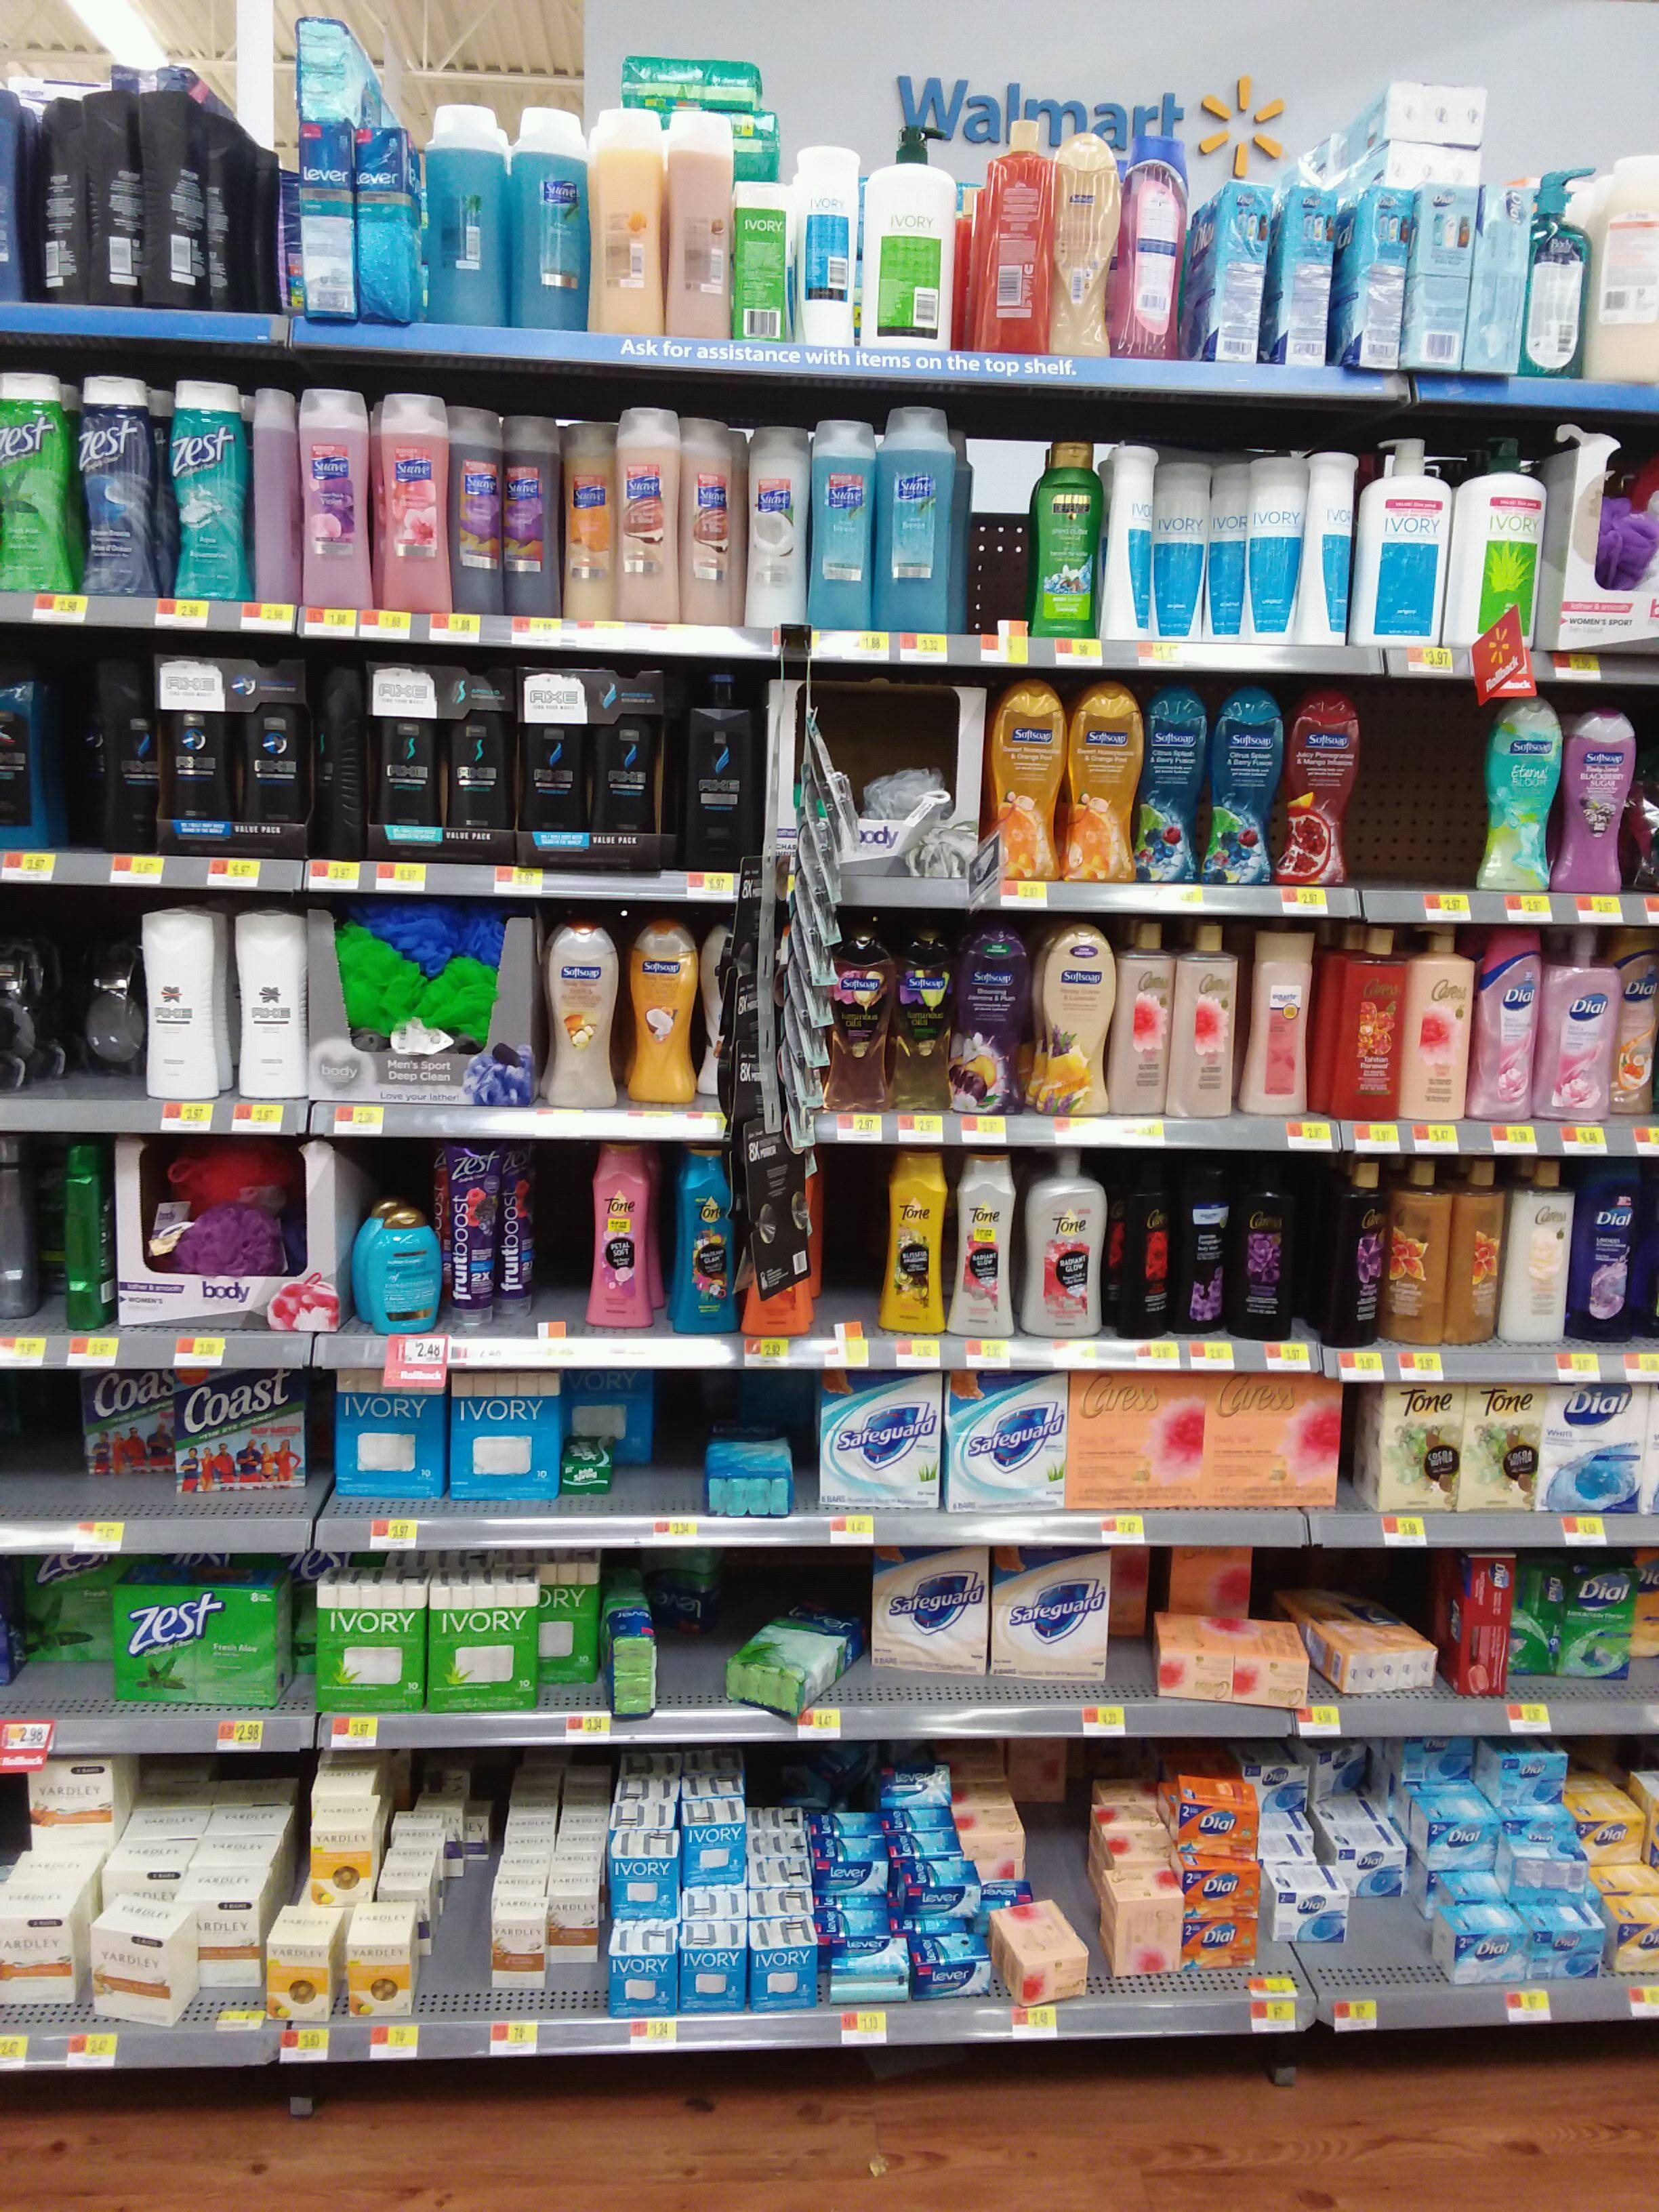Misplacement: (603, 1548, 870, 1710), (908, 1787, 1094, 2006)
